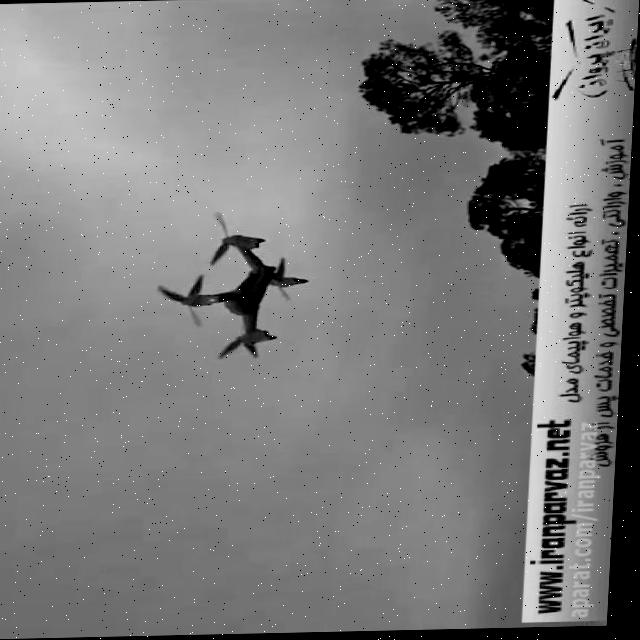drone: (149, 208, 319, 364)
